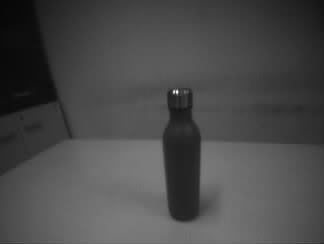Bottle: (160, 86, 201, 221)
